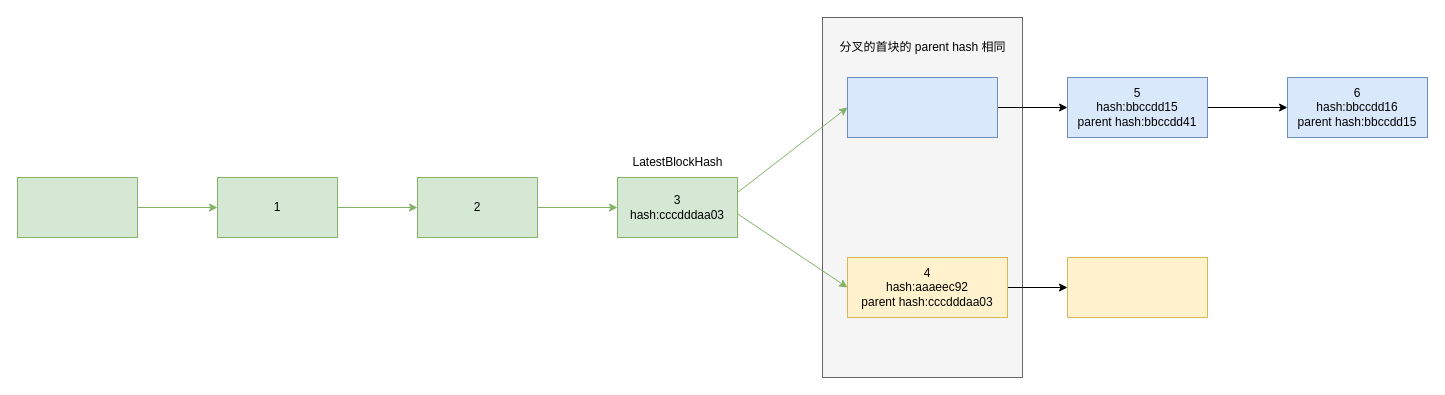
Image size: 1445x395. Some labels were removed from this diagram. The centre of each missing label's shape, as x and y in pixels:
0 hash:aaaabb: pixel 77 207
4 hash:bbccdd41 parent hash:cccdddaa03: pixel 922 107
5 hash:sfdaaaeec5 parent hash:aaaeec92: pixel 1137 287
